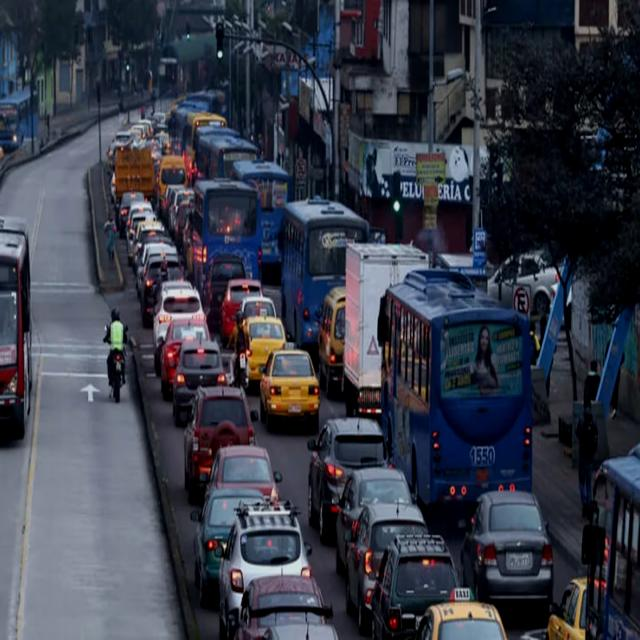BUS: (382, 284, 531, 520), (284, 204, 374, 351), (183, 184, 260, 291), (0, 220, 36, 445)
